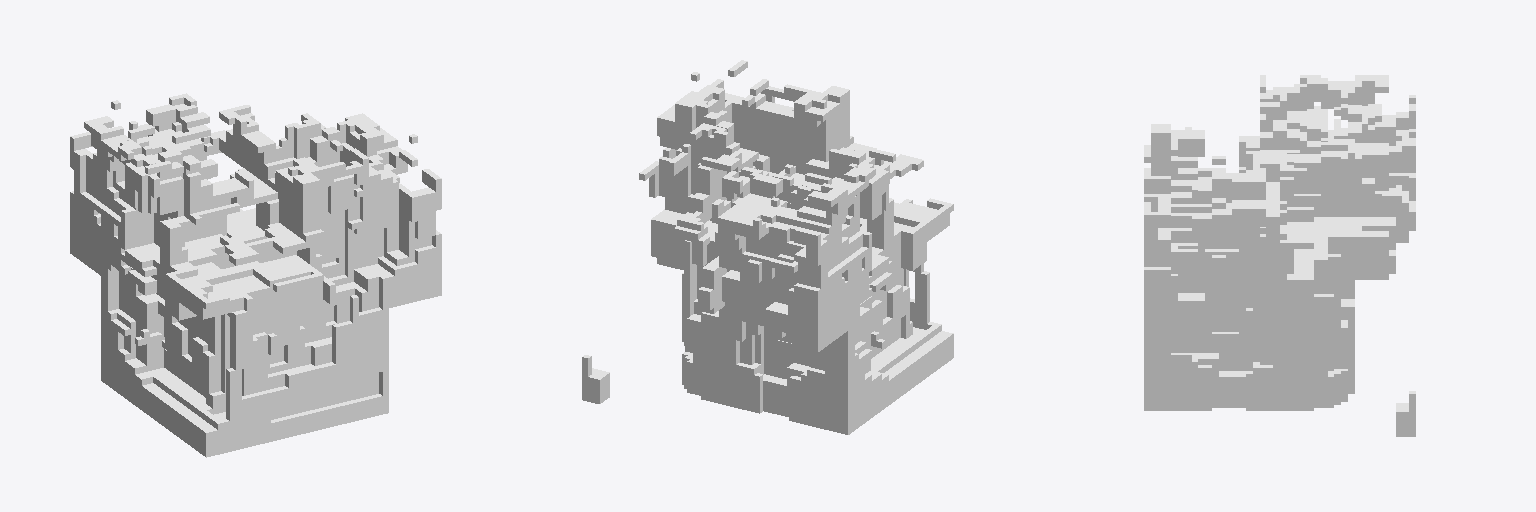
File: floorv1.obj
3 views of the same model, side by side, from view 1: azimuth 30°, elevation 25°; view 2: azimuth 150°, elevation 25°; view 3: azimuth 270°, elevation 25° (orthographic).
Visible parts, largest first — view 1: object 1; view 2: object 1; view 3: object 1.
Boxes of the visible parts, x1,y1,x2,y2 form: object 1: [70, 93, 441, 457]; object 1: [582, 60, 953, 434]; object 1: [1144, 75, 1415, 436].
Bounding box in the file's own units: 4 × 4 × 4.